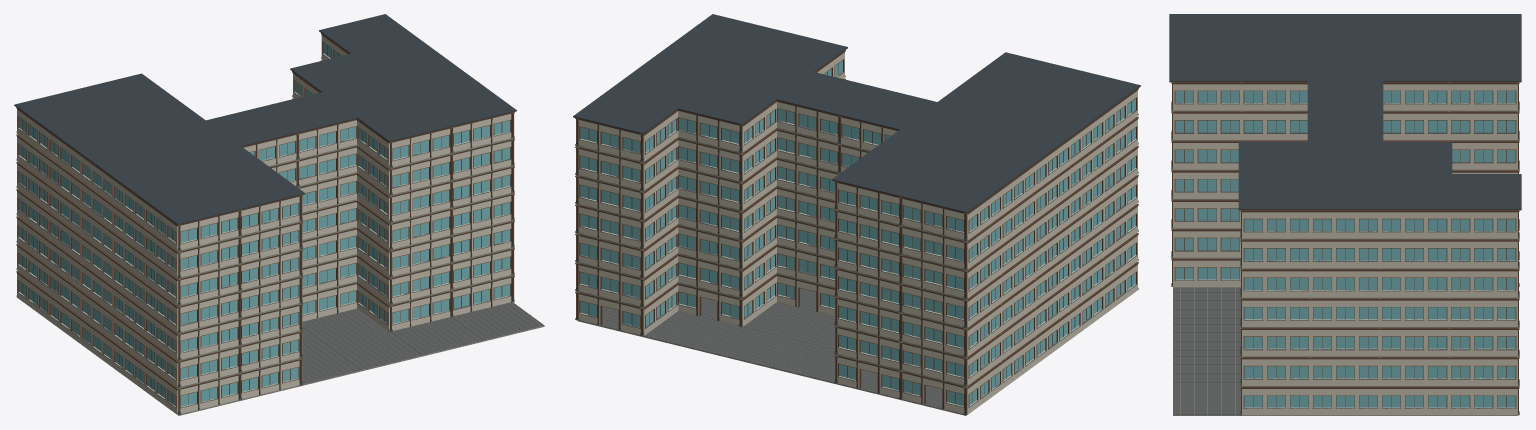
3 views of the same model, side by side, from view 1: azimuth 30°, elevation 25°; view 2: azimuth 150°, elevation 25°; view 3: azimuth 270°, elevation 25° (orthographic). The views are drawn at different scales.
Visible parts, largest first — view 1: 参数墙 · 独立窗玻璃 (×78), 医馆连续H形平屋面, 石铺面与混凝土楼板 (×5); view 2: 参数墙 · 独立窗玻璃 (×80), 医馆连续H形平屋面, 石铺面与混凝土楼板 (×4), 参数墙 · 通行门洞 (×5); view 3: 参数墙 · 独立窗玻璃 (×42), 医馆连续H形平屋面, 石铺面与混凝土楼板 (×4).
Boxes of the visible parts, x1,y1,x2,y2 form: 参数墙 · 独立窗玻璃 (×78): (16,108,512,414); 医馆连续H形平屋面: (14,14,516,225); 石铺面与混凝土楼板 (×5): (301,302,544,385); 参数墙 · 独立窗玻璃 (×80): (578,89,1138,414); 医馆连续H形平屋面: (573,14,1140,213); 石铺面与混凝土楼板 (×4): (642,302,836,384); 参数墙 · 通行门洞 (×5): (578,274,964,413); 参数墙 · 独立窗玻璃 (×42): (1173,82,1517,415); 医馆连续H形平屋面: (1169,14,1521,210); 石铺面与混凝土楼板 (×4): (1173,287,1241,415).
Size of the model in its own units: 54 by 26.94 by 41.2.
15 materials, 15 textured.
